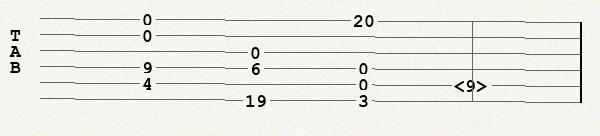0: (142, 12, 157, 28), (142, 28, 157, 44), (250, 44, 265, 60), (358, 60, 373, 76), (358, 76, 373, 92)
19: (245, 92, 271, 108)
20: (353, 12, 379, 28)
3: (358, 92, 373, 108)
4: (142, 76, 157, 92)
6: (250, 60, 265, 76)
9: (142, 60, 157, 76)
harmonic: (454, 76, 493, 92)
